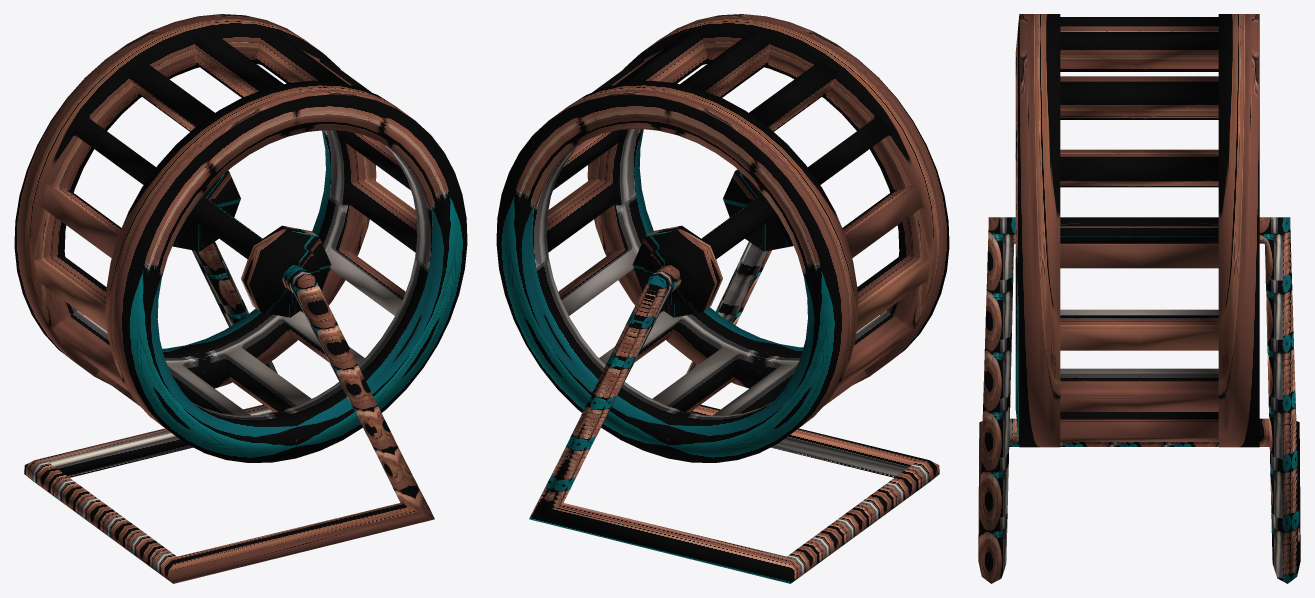
Rendered from hamster_wheel.FBX.
3 renders of one model, left to right at view 1: azimuth 30°, elevation 25°; view 2: azimuth 150°, elevation 25°; view 3: azimuth 270°, elevation 25°, orthographic. The views are drawn at different scales.
Parts seen in each view (by area): view 1: hamster_wheel; view 2: hamster_wheel; view 3: hamster_wheel.
Part boxes in pixels (x1,y1,x2,y2): hamster_wheel: (14, 14, 467, 583); hamster_wheel: (496, 14, 949, 583); hamster_wheel: (978, 14, 1300, 583).
Bounding box in the file's own units: 4.05 × 4.97 × 3.01.
